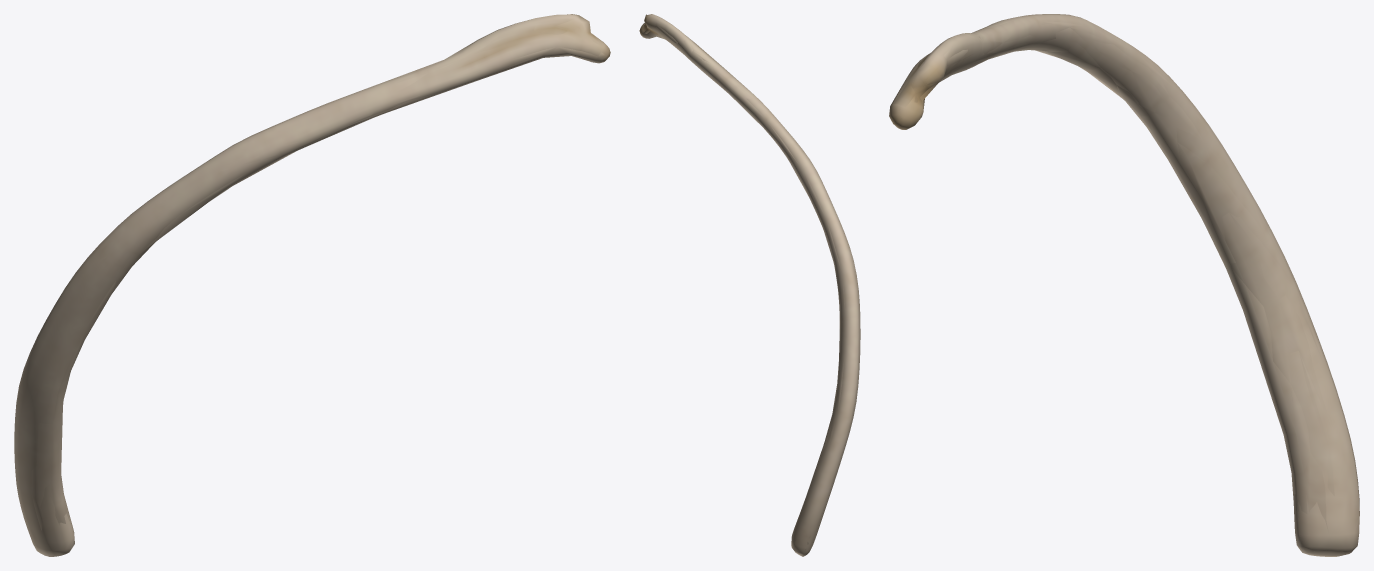
The model's file is Rib R15.fbx.
3 renders of one model, left to right at view 1: azimuth 30°, elevation 25°; view 2: azimuth 150°, elevation 25°; view 3: azimuth 270°, elevation 25°, orthographic. The views are drawn at different scales.
Parts seen in each view (by area): view 1: Rib R15, Rib R15 low; view 2: Rib R15, Rib R15 low; view 3: Rib R15, Rib R15 low.
Boxes of the visible parts, bbox=[...] form: Rib R15: bbox=[14, 14, 610, 556]; Rib R15 low: bbox=[19, 14, 606, 552]; Rib R15: bbox=[639, 14, 860, 556]; Rib R15 low: bbox=[643, 15, 857, 554]; Rib R15: bbox=[889, 14, 1359, 556]; Rib R15 low: bbox=[893, 17, 1359, 553].
Size of the model in its own units: 26.68 by 32.4 by 18.82.
Materials: 1 (1 with a texture image).
